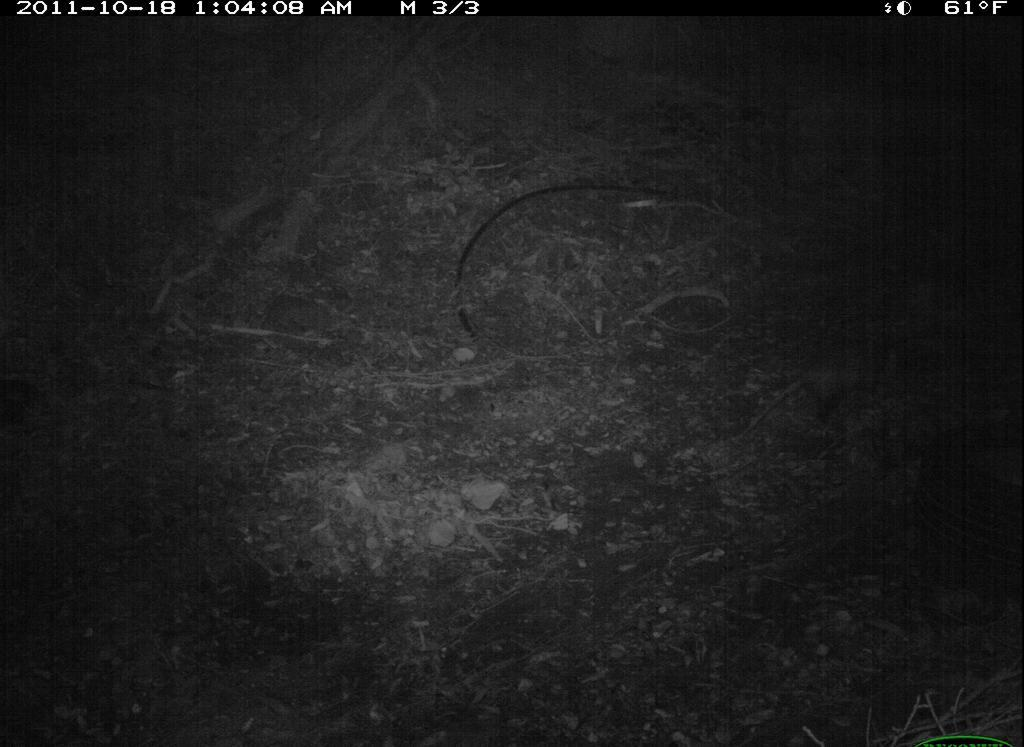opossum: (734, 318, 923, 450)
